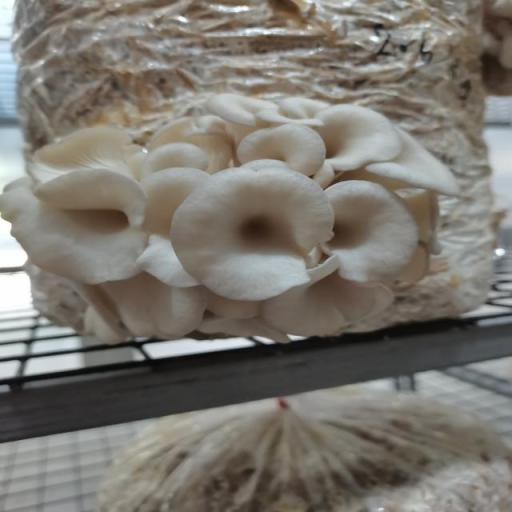White Oyster Mushroom: (4, 85, 467, 345)
